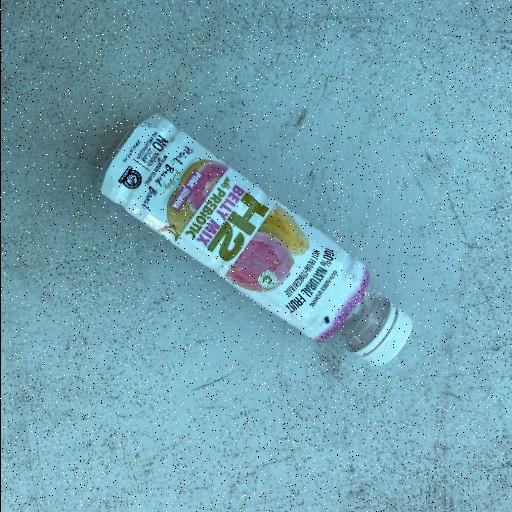Plastic: (94, 110, 414, 368)
